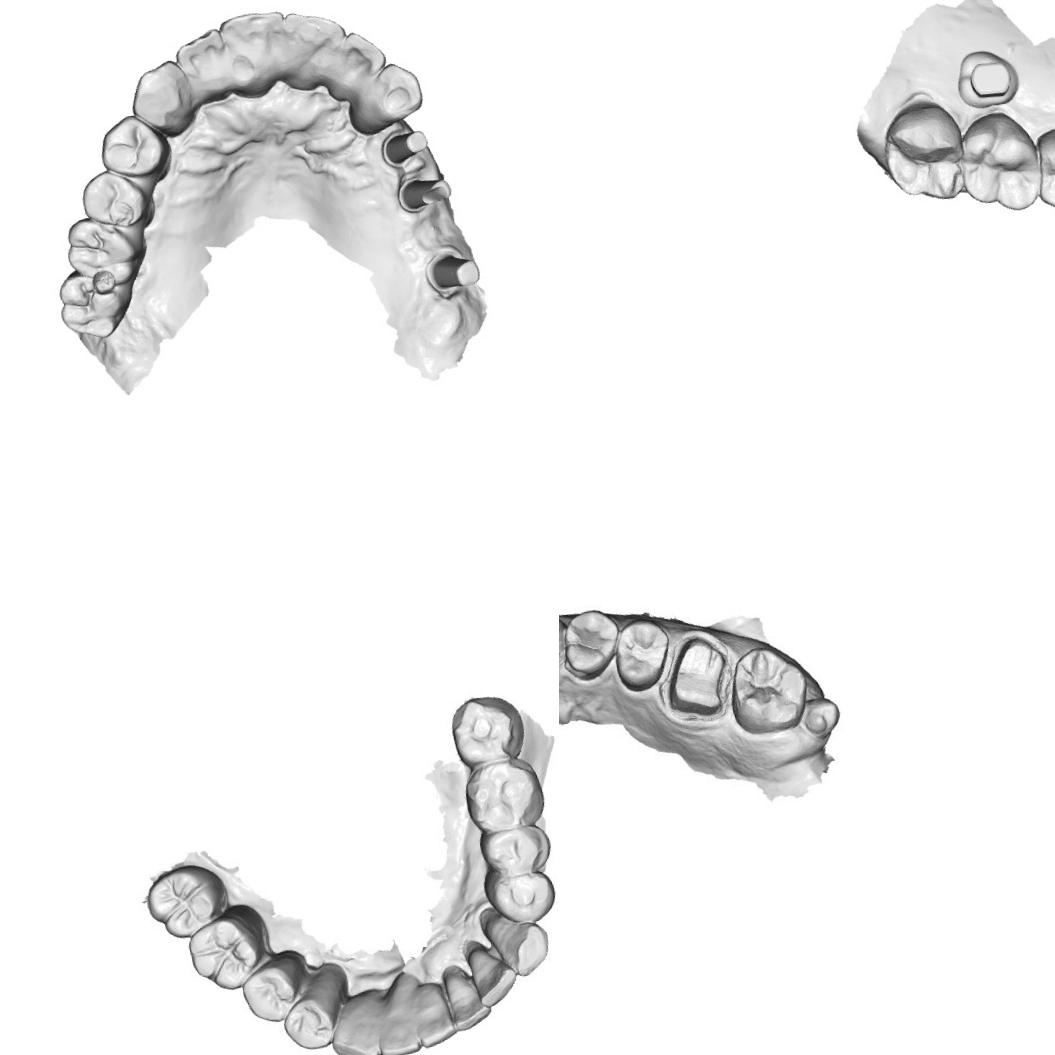abutment: (421, 248, 484, 302), (394, 170, 456, 218), (378, 127, 432, 170)
canine: (341, 59, 428, 138), (124, 57, 196, 141), (480, 898, 554, 977), (323, 991, 381, 1055)
crown: (662, 633, 730, 711)
incisor: (279, 4, 354, 102), (218, 7, 294, 98), (366, 970, 429, 1055), (323, 27, 391, 102), (172, 26, 233, 102), (464, 938, 518, 1006), (405, 975, 456, 1046), (442, 962, 493, 1032)
molar: (870, 99, 973, 210), (952, 107, 1044, 217), (182, 900, 279, 995), (726, 640, 816, 739), (141, 858, 233, 946), (62, 208, 154, 293), (52, 264, 136, 348), (456, 756, 544, 836), (444, 688, 527, 770)
premolar: (75, 164, 162, 234), (95, 109, 173, 183), (560, 602, 626, 686), (608, 615, 676, 695), (473, 818, 555, 880), (481, 864, 559, 926), (241, 964, 299, 1024), (280, 995, 338, 1052), (1027, 125, 1055, 215)
